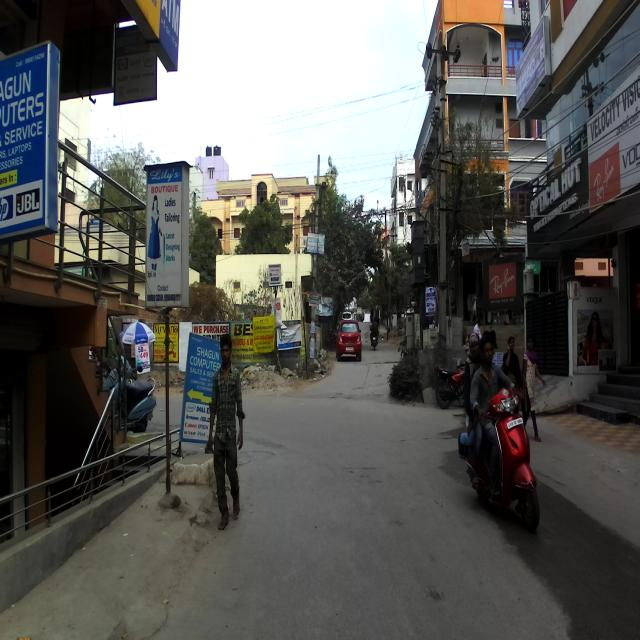electric pole ahead at: (138, 157, 196, 516)
motorcycle ahead at: (461, 383, 547, 547)
person ahead at: (205, 328, 251, 526)
